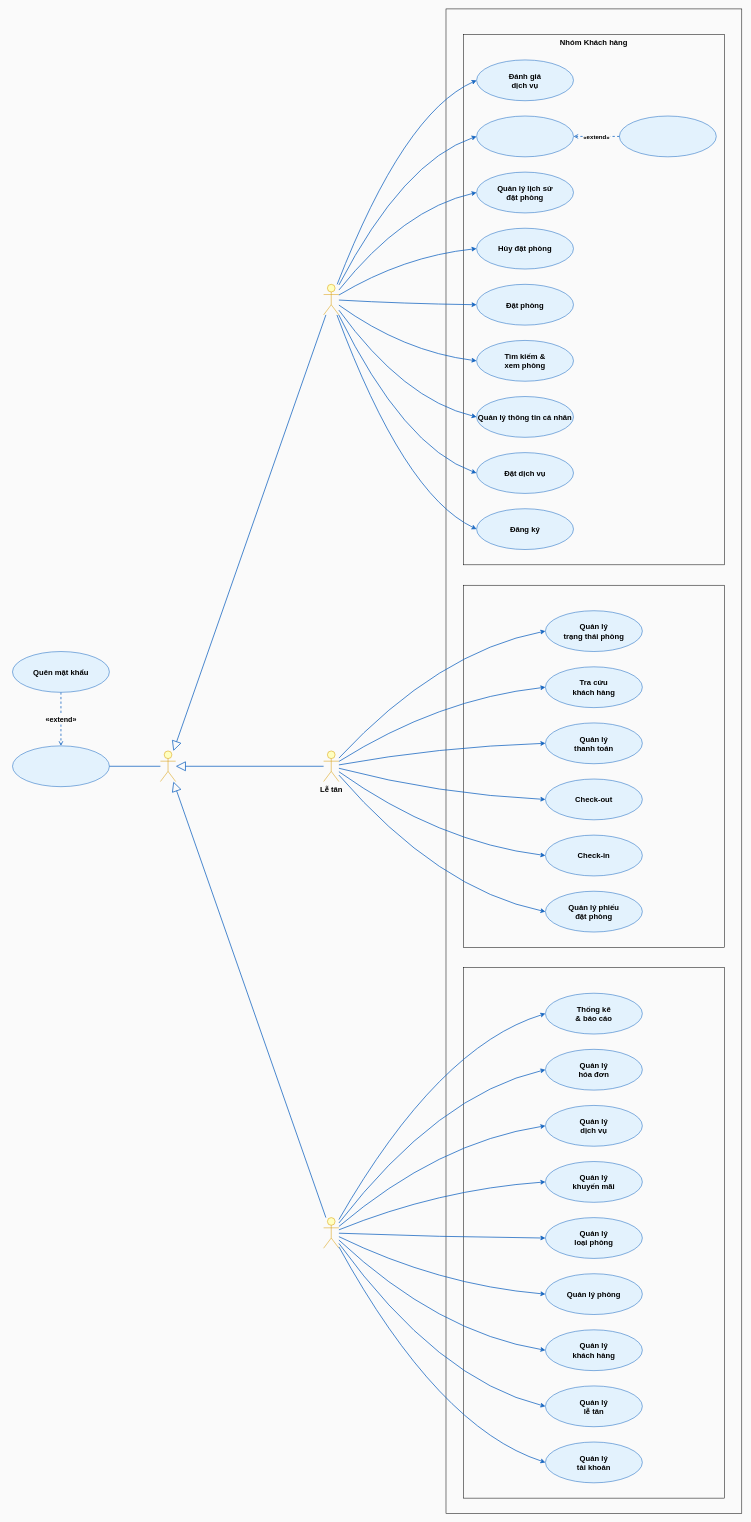
Some shapes in this 751 by 1522 pixel diagram are drawn without their labels. The shapes that lost their labels are listed below. From the top down, each one's box as (x1, y1, x2, y2) in pixels, then its label:
(476, 116, 573, 157): Thanh toán
(619, 116, 716, 157): Áp dụng khuyến mãi
(323, 284, 339, 315): Khách hàng
(12, 745, 109, 787): Đăng nhập
(160, 750, 176, 782): Người dùng hệ thống
(445, 8, 742, 1513): Hệ thống quản lý booking khách sạn
(463, 585, 724, 947): Nhóm Lễ tân
(323, 1217, 339, 1248): Admin
(463, 967, 724, 1498): Nhóm Admin
